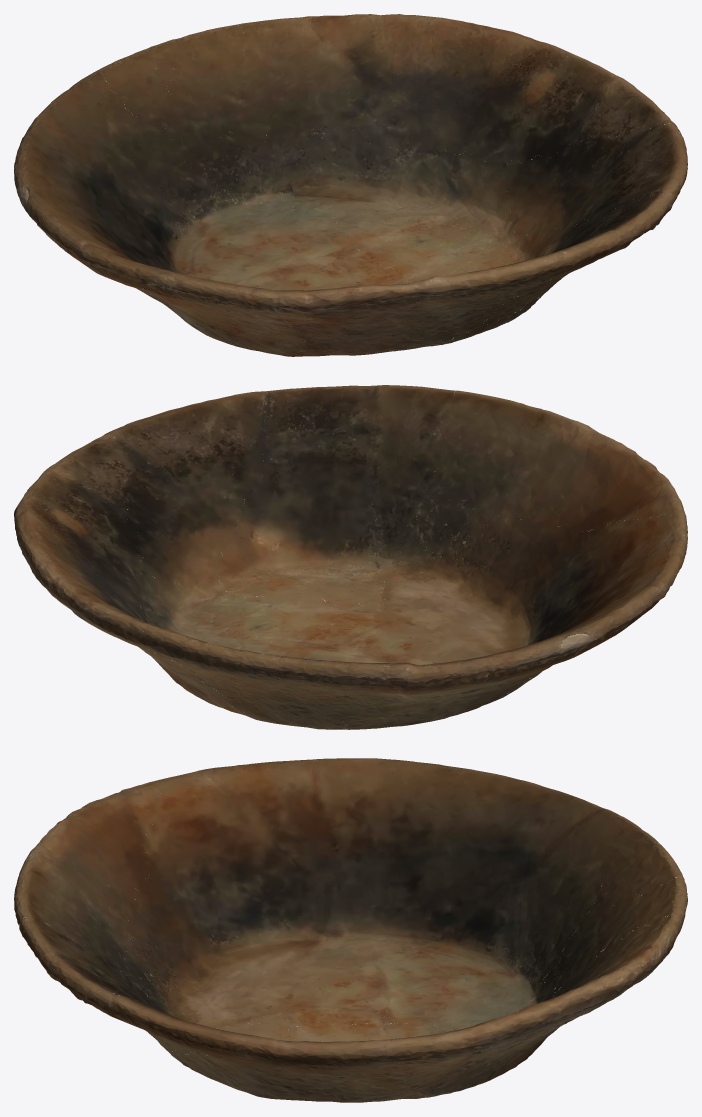
3 views of the same model, one above another, from view 1: azimuth 30°, elevation 25°; view 2: azimuth 150°, elevation 25°; view 3: azimuth 270°, elevation 25° (orthographic). The views are drawn at different scales.
Parts seen in each view (by area): view 1: Mesh_0.004; view 2: Mesh_0.004; view 3: Mesh_0.004.
Part boxes in pixels (x1,y1,x2,y2): Mesh_0.004: (14, 14, 687, 356); Mesh_0.004: (14, 385, 687, 729); Mesh_0.004: (14, 758, 687, 1102).
Size of the model in its own units: 0.2268 by 0.051 by 0.2204.
1 material, 1 textured.
